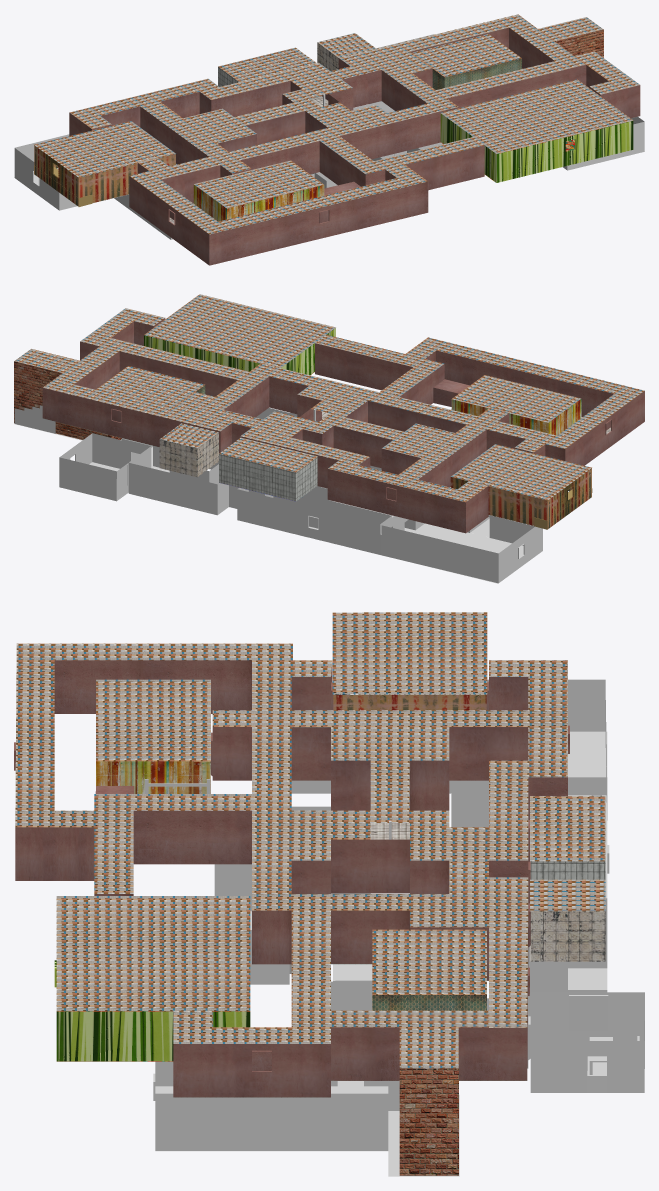
The model's file is map0.fbx.
3 renders of one model, top to bottom at view 1: azimuth 30°, elevation 25°; view 2: azimuth 150°, elevation 25°; view 3: azimuth 270°, elevation 25°, orthographic. The views are drawn at different scales.
Visible parts, largest first — view 1: floor2UP, floor2Walls, floor1Walls, floor2; view 2: floor2UP, floor2Walls, floor1Walls, floor1, stairs; view 3: floor2UP, floor2Walls, floor1Walls, floor1, picture, floor2, shop, floor dumbbell.
Part boxes in pixels (x1,y1,x2,y2): floor2UP: [34, 14, 639, 234]; floor2Walls: [34, 27, 640, 265]; floor1Walls: [14, 34, 644, 239]; floor2: [57, 66, 601, 223]; floor2UP: [14, 294, 644, 502]; floor2Walls: [14, 318, 644, 533]; floor1Walls: [59, 408, 542, 583]; floor1: [89, 447, 523, 583]; stairs: [14, 405, 55, 433]; floor2UP: [15, 612, 605, 1068]; floor2Walls: [14, 660, 605, 1175]; floor1Walls: [153, 679, 644, 1150]; floor1: [155, 731, 607, 1151]; picture: [569, 995, 608, 1031]; floor2: [57, 694, 530, 1068]; shop: [155, 1093, 388, 1099]; floor dumbbell: [388, 1094, 459, 1176].
Bounding box in the file's own units: 5495 × 661 × 3198.
